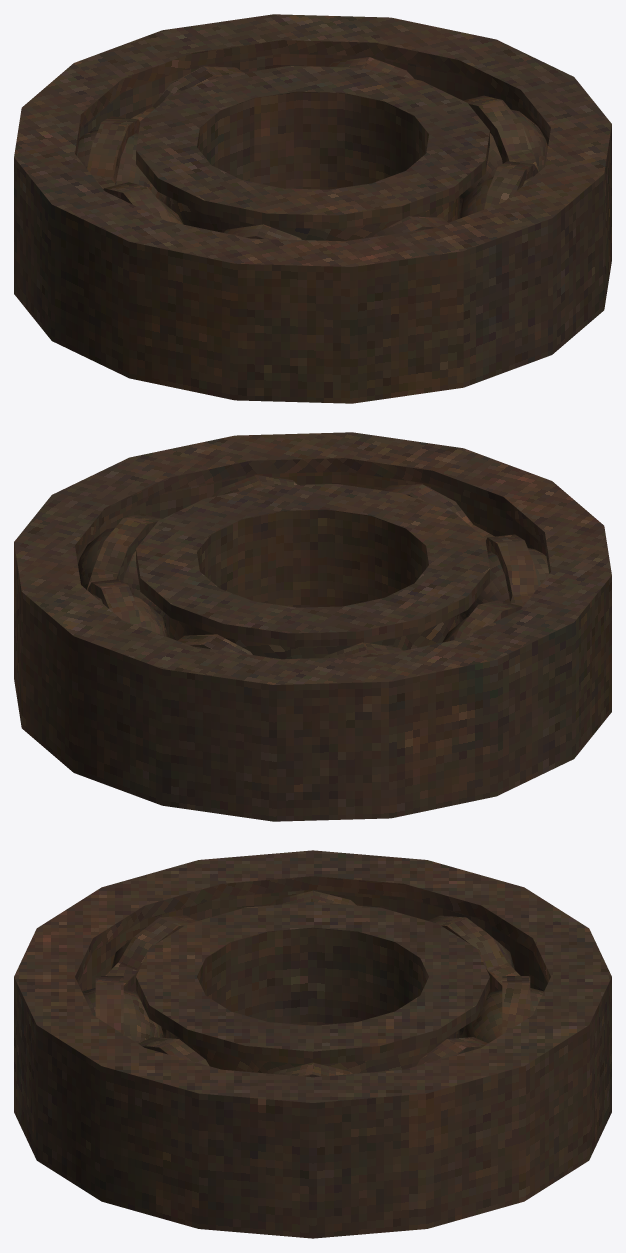
File: ball_bearing_mx_1_large.glb
3 views of the same model, one above another, from view 1: azimuth 30°, elevation 25°; view 2: azimuth 150°, elevation 25°; view 3: azimuth 270°, elevation 25° (orthographic).
Visible parts, largest first — view 1: ball_bearing_mx_1_large; view 2: ball_bearing_mx_1_large; view 3: ball_bearing_mx_1_large.
Part boxes in pixels (left/top/right/bottom): ball_bearing_mx_1_large: left=14, top=14, right=611, bottom=403; ball_bearing_mx_1_large: left=14, top=432, right=611, bottom=821; ball_bearing_mx_1_large: left=14, top=850, right=611, bottom=1238.
Bounding box in the file's own units: 0.2 × 0.05 × 0.2.
1 material, 1 textured.
